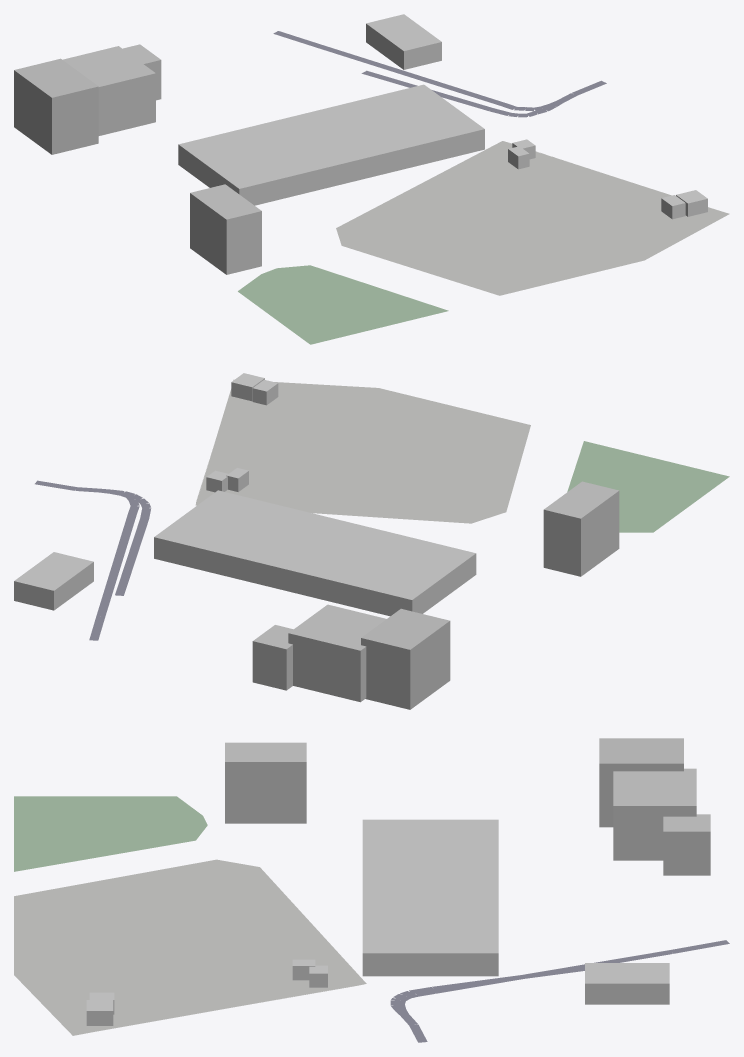
File: 133_94_mid.glb
The picture shows the model from 3 angles, top to bottom: view 1: azimuth 30°, elevation 25°; view 2: azimuth 150°, elevation 25°; view 3: azimuth 270°, elevation 25°; orthographic projection. The views are drawn at different scales.
Size of the model in its own units: 444 by 50.7 by 516.
